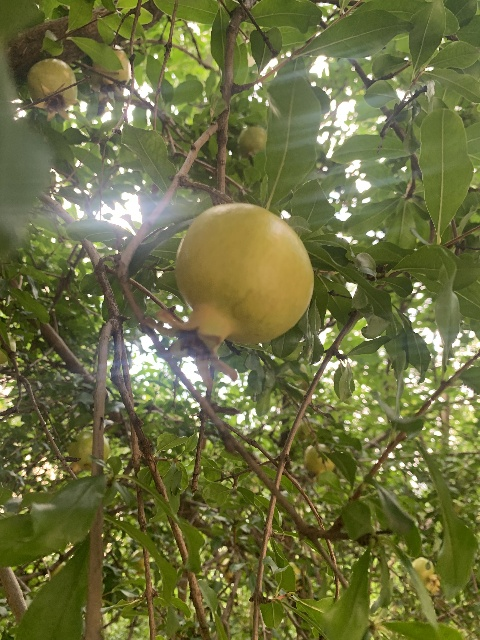mid-growth: (151, 202, 313, 387), (27, 58, 77, 120), (86, 47, 131, 104), (66, 431, 109, 473), (303, 443, 334, 479), (239, 126, 267, 157)
